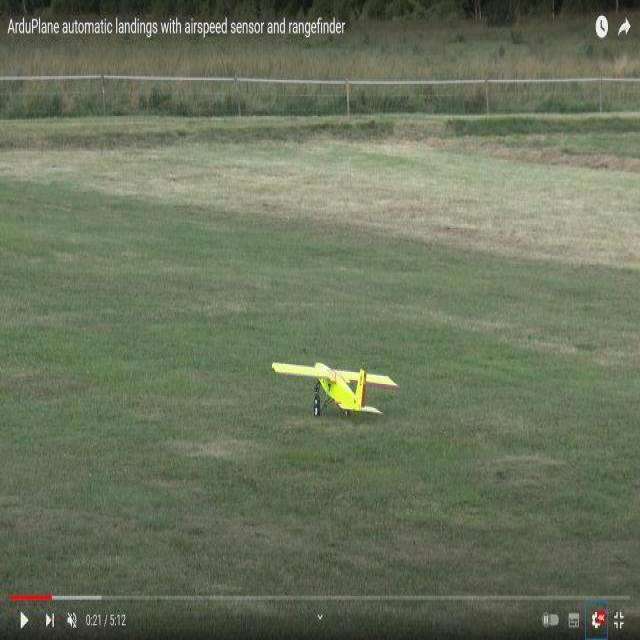iha: (266, 321, 432, 450)
